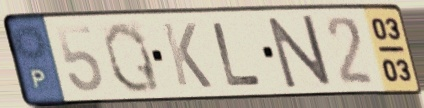2: (326, 14, 376, 87)
5: (52, 22, 106, 94)
K: (159, 21, 215, 91)
L: (209, 20, 266, 89)
N: (264, 12, 335, 91)
Q: (100, 18, 164, 96)
